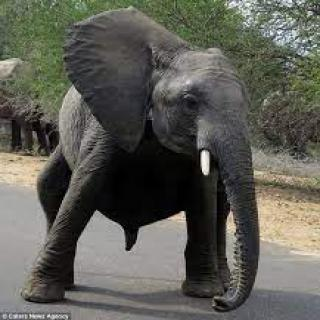Elephant: (19, 2, 267, 312)
